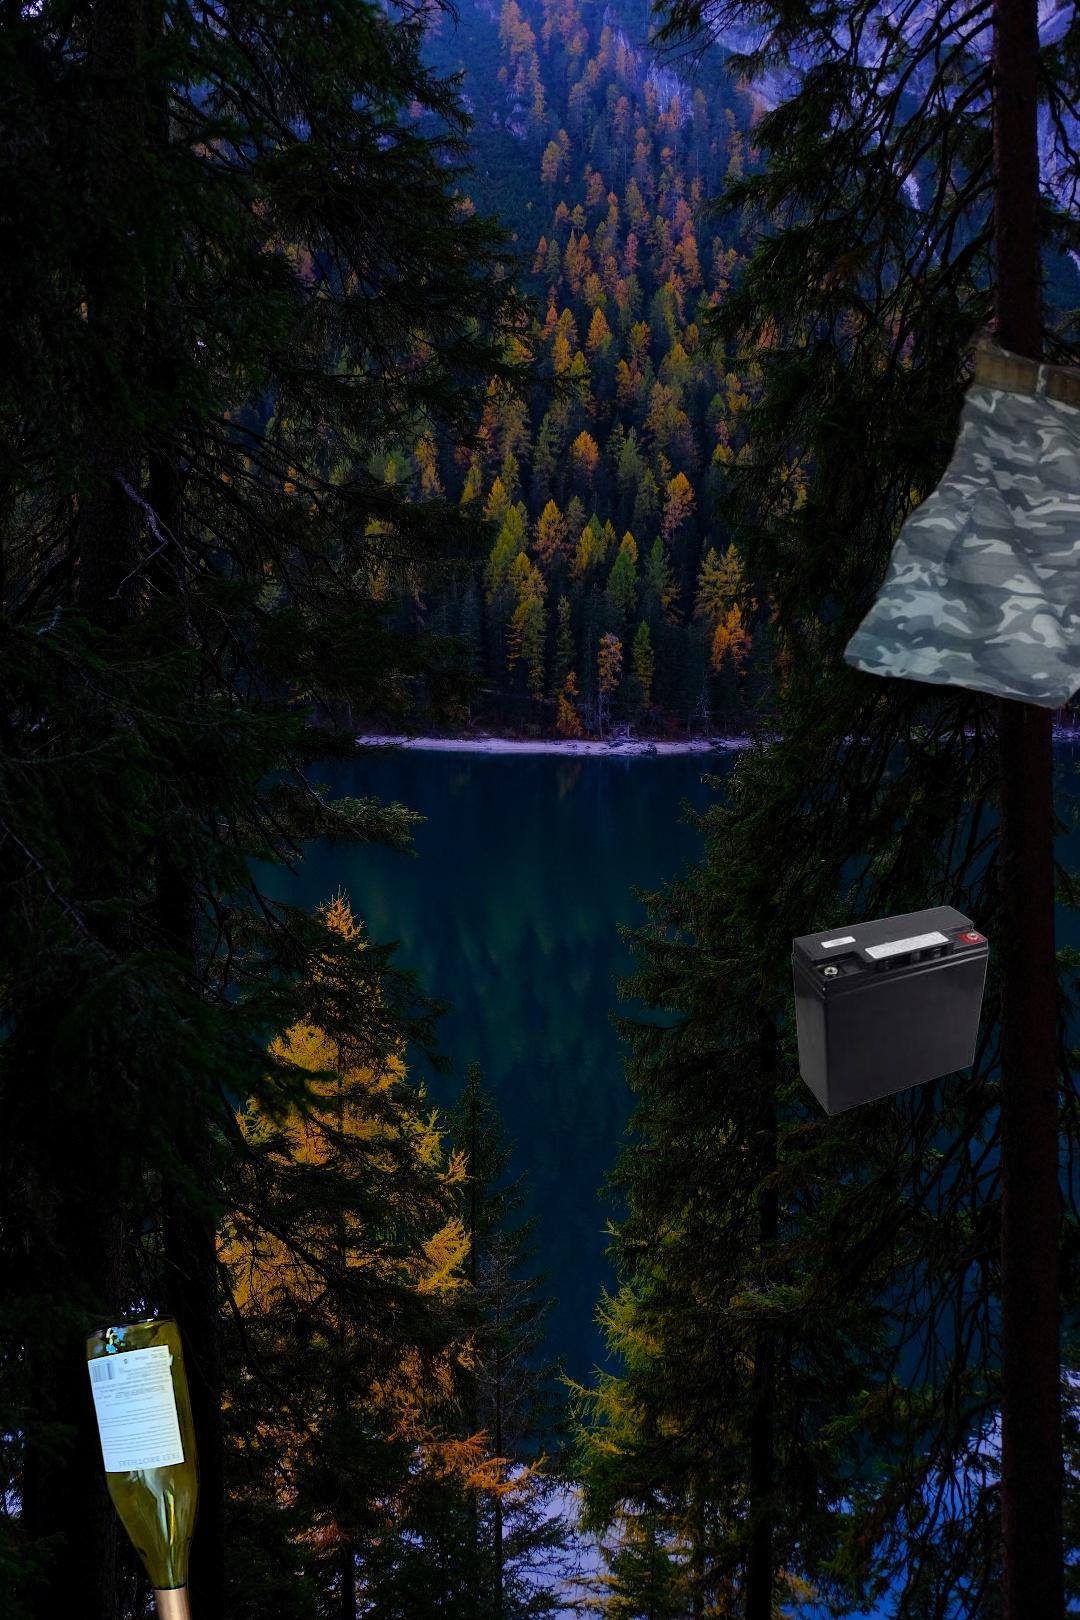battery: (790, 903, 992, 1119)
clothes: (837, 322, 1080, 722)
glass: (81, 1308, 205, 1620)
